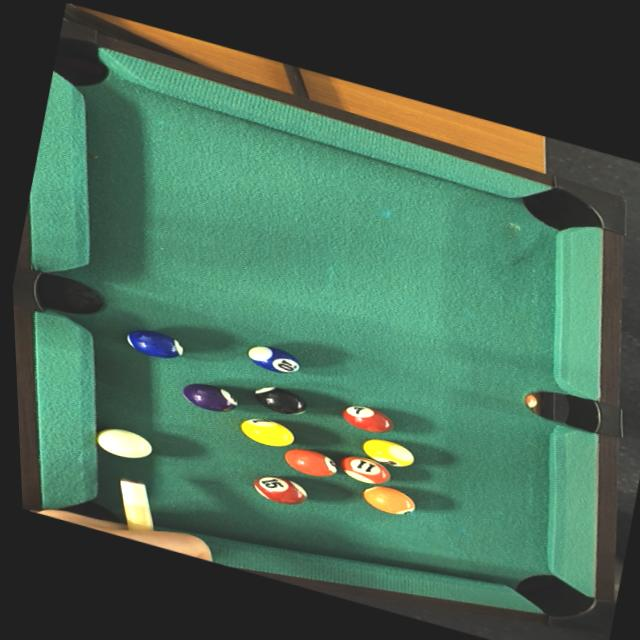cue ball: (93, 420, 161, 470)
other: (112, 320, 195, 367), (239, 375, 318, 424), (231, 408, 305, 457), (235, 338, 312, 385), (246, 466, 317, 513), (171, 373, 241, 419), (274, 439, 342, 485), (330, 397, 402, 440), (350, 429, 418, 474), (359, 479, 426, 521), (334, 447, 393, 490)
